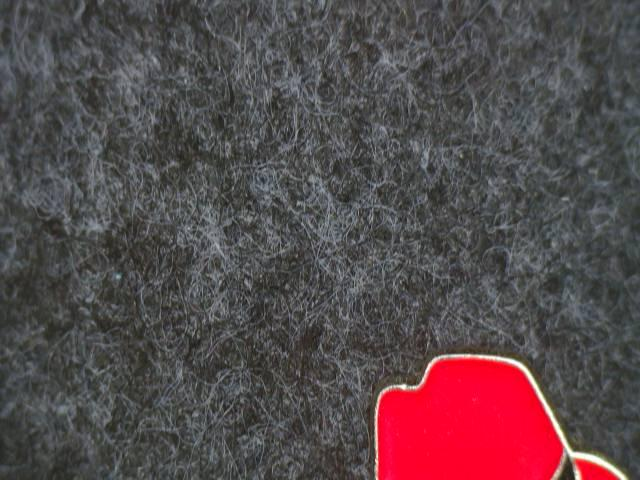Red-Hat: (320, 315, 640, 480)
